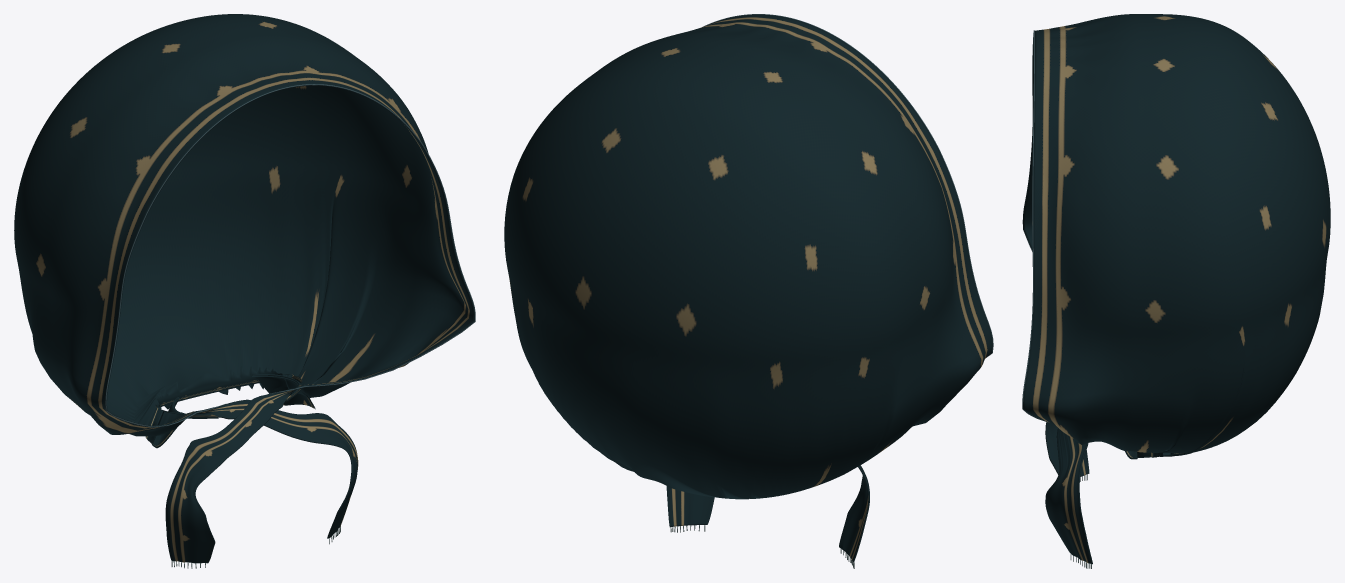
The model's file is Feminine-twin-braids-pashmina251-headgear.glb.
The picture shows the model from 3 angles, left to right: view 1: azimuth 30°, elevation 25°; view 2: azimuth 150°, elevation 25°; view 3: azimuth 270°, elevation 25°; orthographic projection. The views are drawn at different scales.
Parts seen in each view (by area): view 1: 226 headgear / Headwear / continuous woven pashmina239.002, 226 headgear / Headwear / face edge239.002; view 2: 226 headgear / Headwear / continuous woven pashmina239.002, 226 headgear / Headwear / face edge239.002; view 3: 226 headgear / Headwear / continuous woven pashmina239.002, 226 headgear / Headwear / face edge239.002.
Part boxes in pixels (x1,y1,x2,y2): 226 headgear / Headwear / continuous woven pashmina239.002: (14, 14, 474, 563); 226 headgear / Headwear / face edge239.002: (105, 84, 475, 427); 226 headgear / Headwear / continuous woven pashmina239.002: (504, 14, 992, 562); 226 headgear / Headwear / face edge239.002: (703, 14, 993, 357); 226 headgear / Headwear / continuous woven pashmina239.002: (1022, 14, 1330, 564); 226 headgear / Headwear / face edge239.002: (1022, 30, 1048, 422).
Size of the model in its own units: 1.11 by 1.38 by 0.7776.
3 materials, 1 textured.
